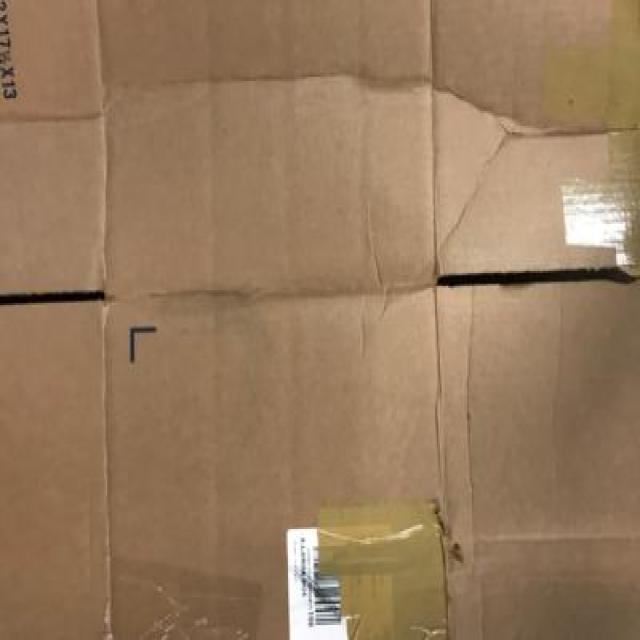PaperCardboard: (1, 3, 640, 640)
